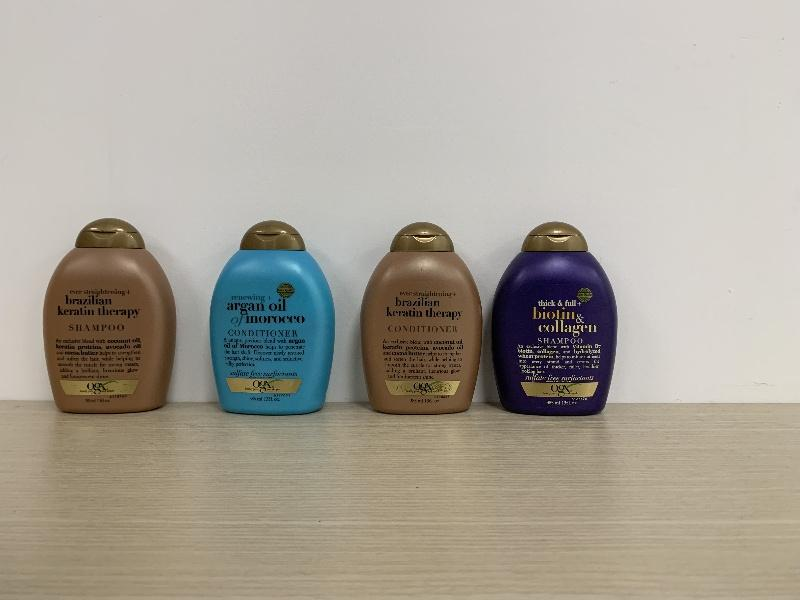ArganOilOfMorocco_Conditioner: (209, 220, 336, 414)
BiotinCollagen_Shampoo: (488, 221, 618, 417)
BrazilianKeratinTherapy_Shampoo: (44, 218, 175, 414)
BrazilianKerationTherapy_Conditioner: (359, 222, 482, 415)
